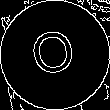O_S: (28, 25, 82, 85)
